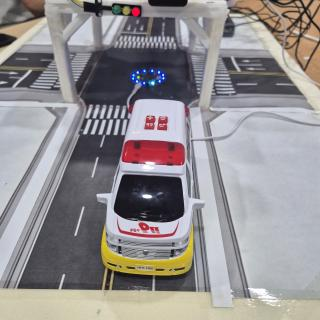Ambulance: (97, 99, 204, 275)
